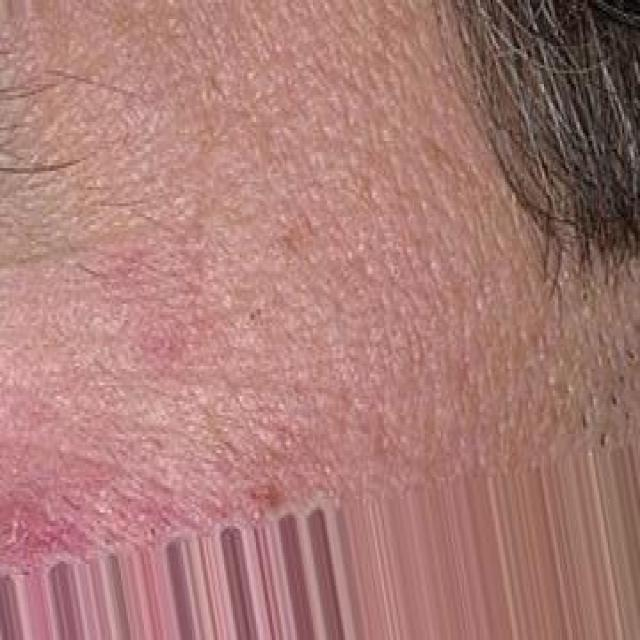Rosacea: (2, 449, 294, 561), (77, 241, 201, 368)
